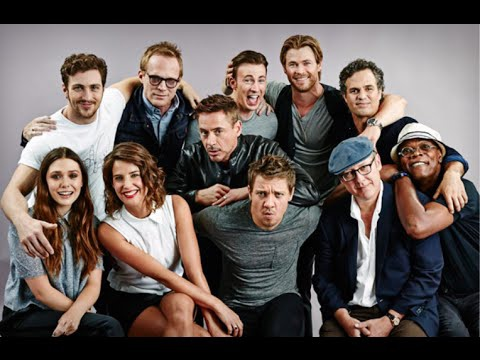bad: (64, 74, 108, 118), (395, 132, 439, 175), (247, 185, 290, 228), (189, 118, 232, 161), (45, 166, 81, 202), (281, 50, 317, 86), (345, 78, 381, 114), (109, 166, 145, 202), (237, 70, 273, 106), (141, 70, 177, 106)
